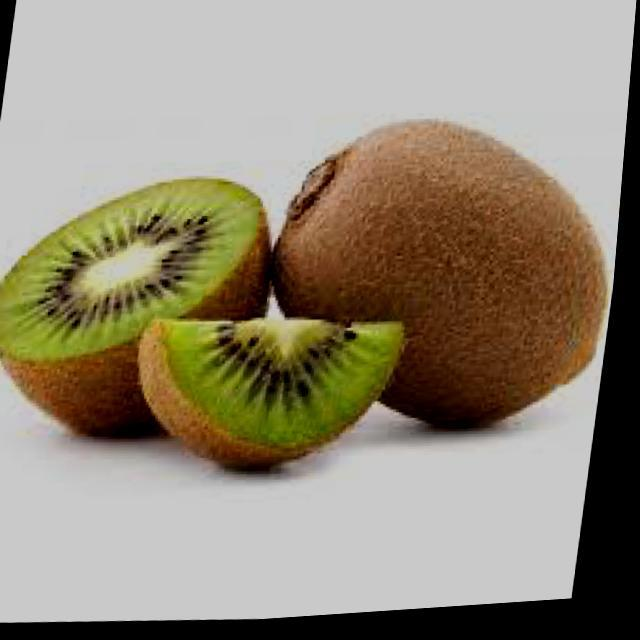kiwi: (259, 106, 631, 458)
